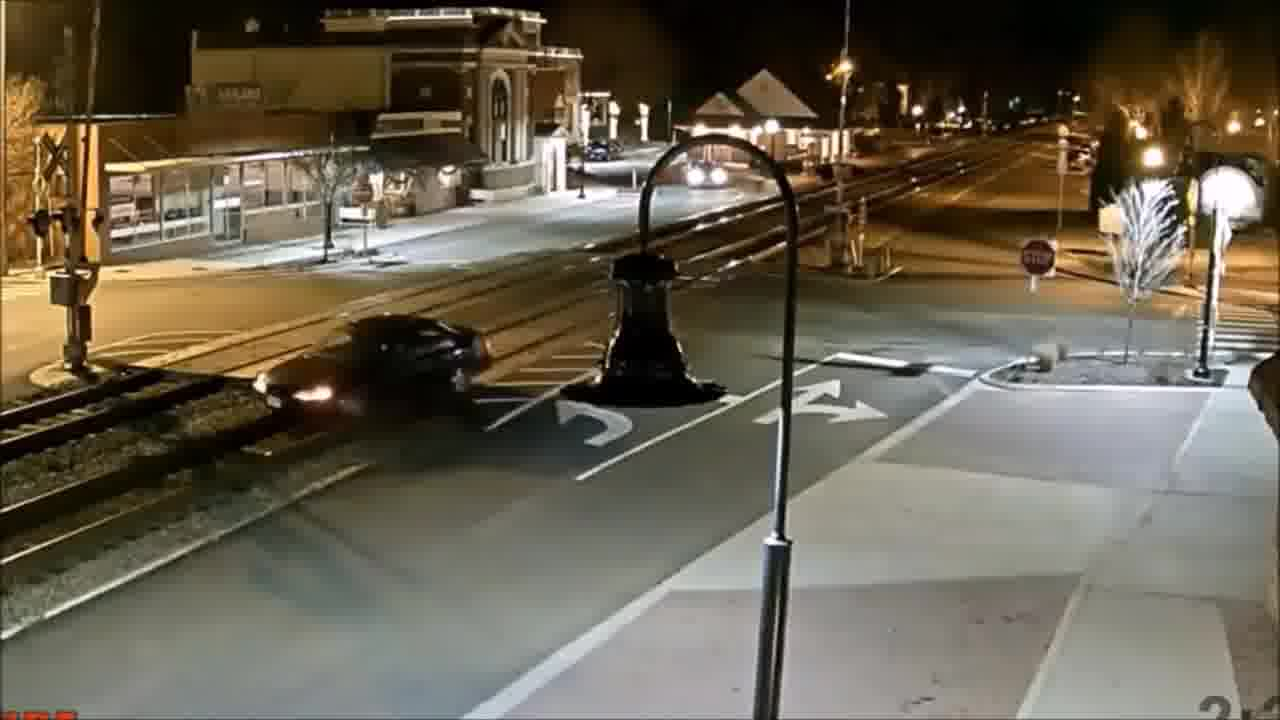crossing railway track: (245, 308, 505, 410)
